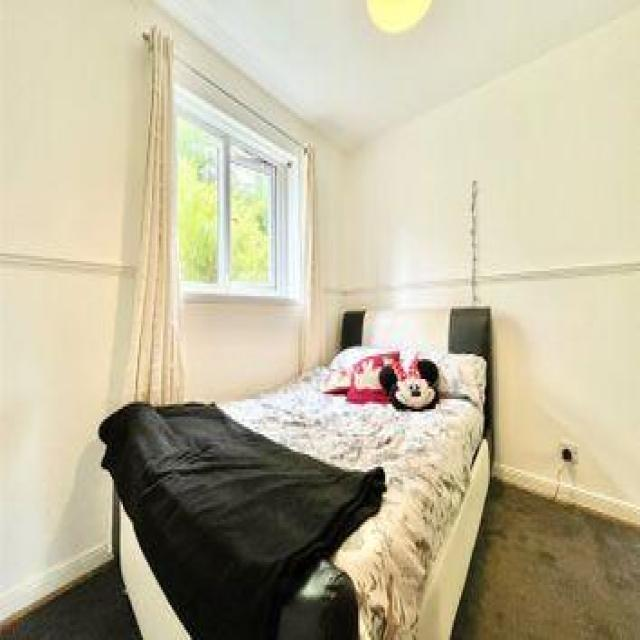Wall: (1, 0, 640, 620), (157, 0, 640, 147), (453, 482, 640, 639), (186, 302, 301, 400), (0, 562, 136, 640)
